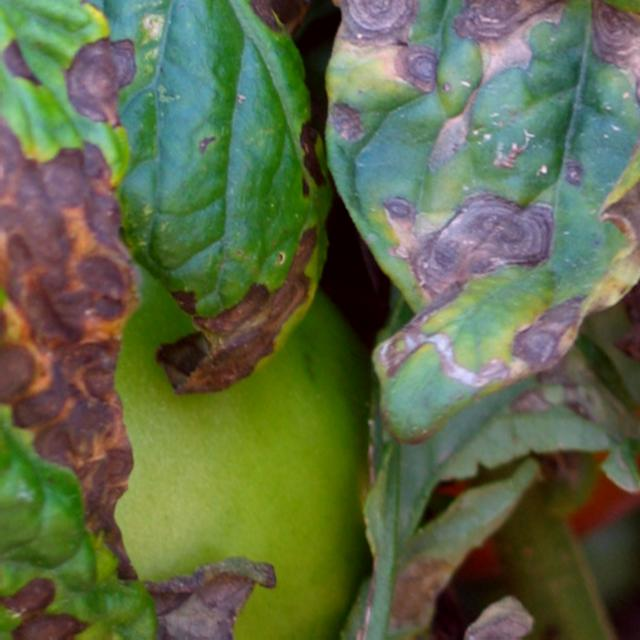Tomato Early blight leaf: (109, 0, 640, 416), (0, 0, 218, 640), (81, 0, 369, 428)
